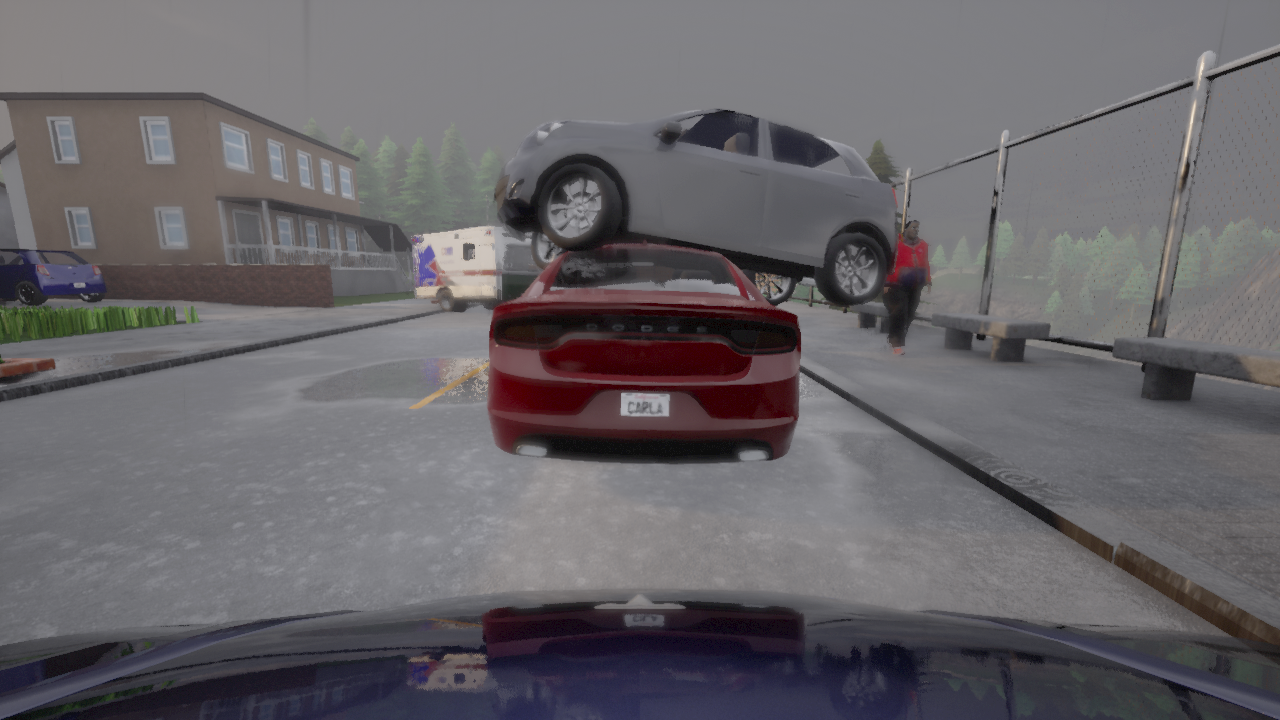cyclist: (0, 588, 1279, 719), (494, 108, 897, 305), (488, 237, 801, 463), (410, 225, 532, 312), (0, 248, 106, 305), (503, 239, 543, 302)
pedestrian: (882, 219, 932, 355)
